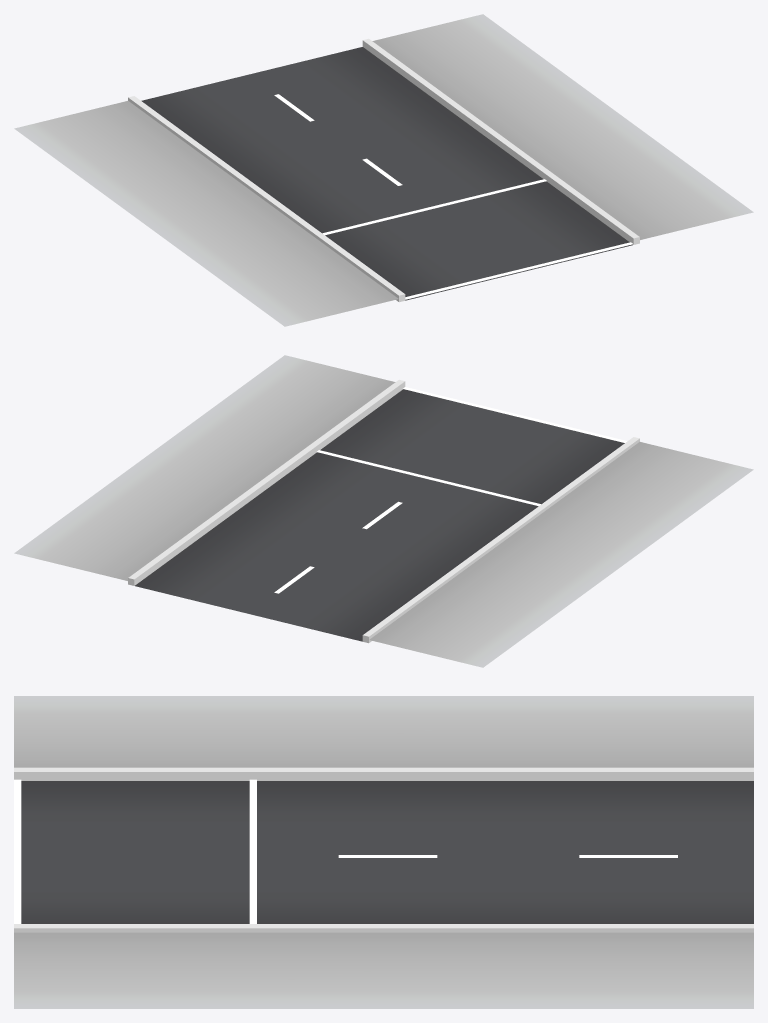
The model's file is city2-road-022.glb.
3 renders of one model, top to bottom at view 1: azimuth 30°, elevation 25°; view 2: azimuth 150°, elevation 25°; view 3: azimuth 270°, elevation 25°, orthographic. The views are drawn at different scales.
Visible parts, largest first — view 1: road_022; view 2: road_022; view 3: road_022.
Boxes of the visible parts, left/top/right/bottom form: road_022: left=14, top=14, right=753, bottom=326; road_022: left=14, top=355, right=753, bottom=667; road_022: left=14, top=696, right=753, bottom=1008.
Bounding box in the file's own units: 15 × 0.2 × 15.
Materials: 1 (1 with a texture image).
